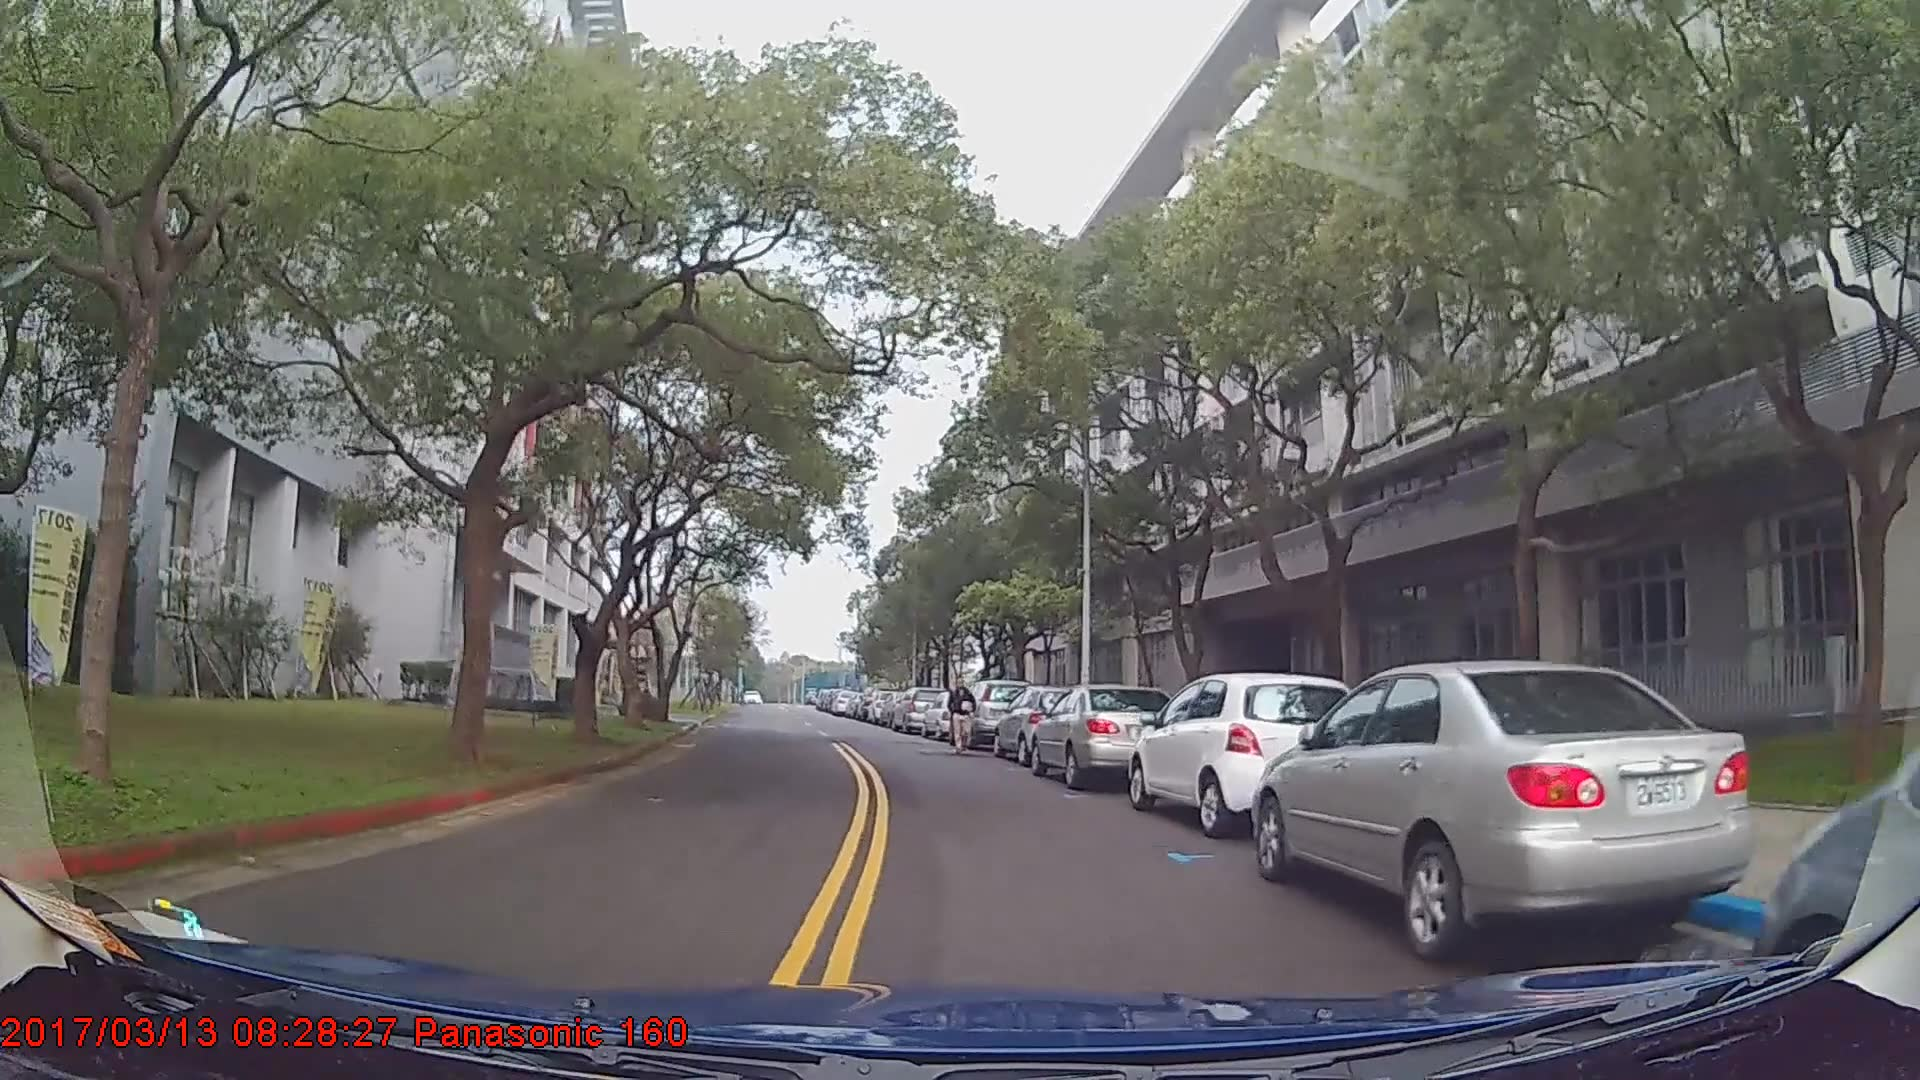pedestrian: (948, 676, 978, 756)
vehicle: (1247, 659, 1757, 965), (1127, 671, 1360, 840), (1031, 683, 1182, 789), (993, 685, 1101, 768), (959, 679, 1030, 751), (891, 686, 946, 734)
